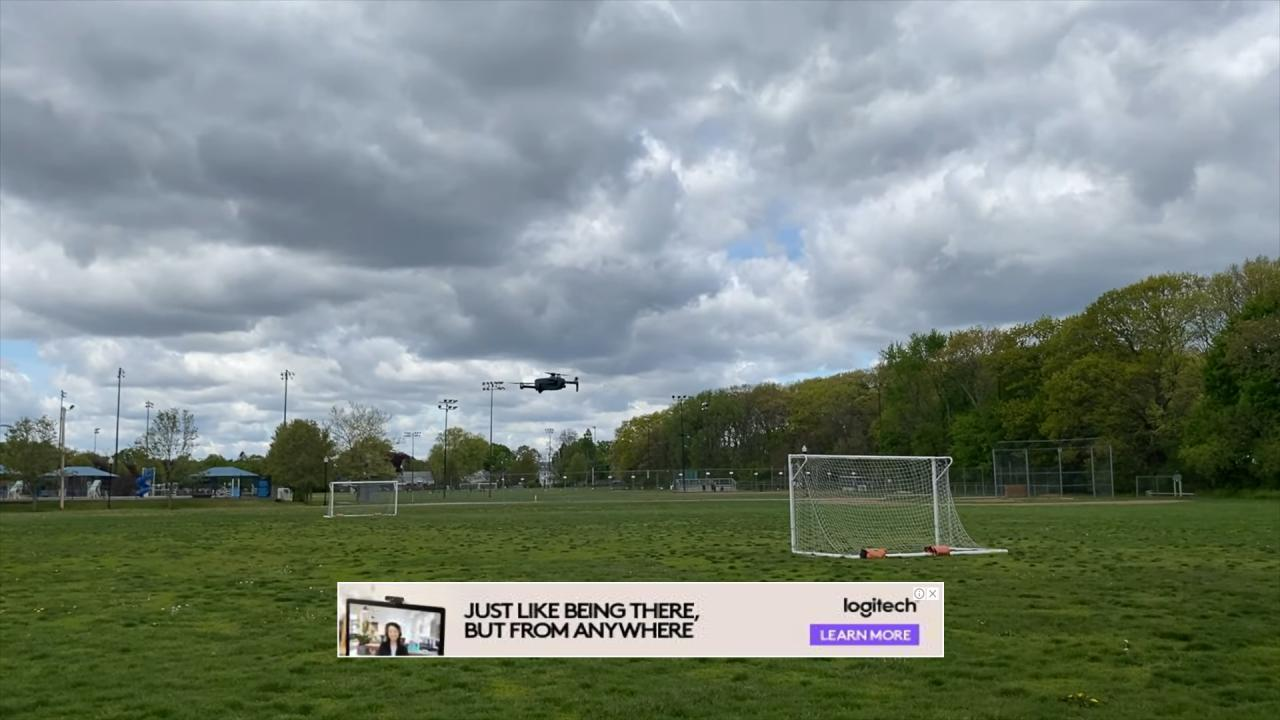Drone: (506, 364, 592, 400)
